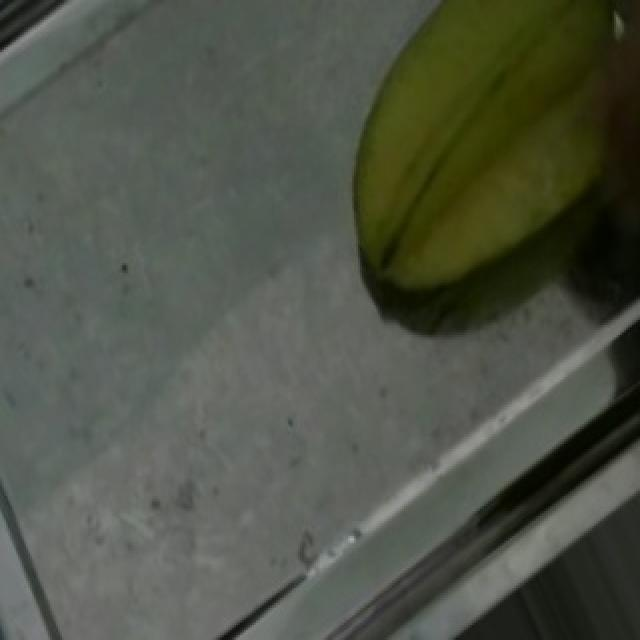fruit: (316, 0, 640, 342)
